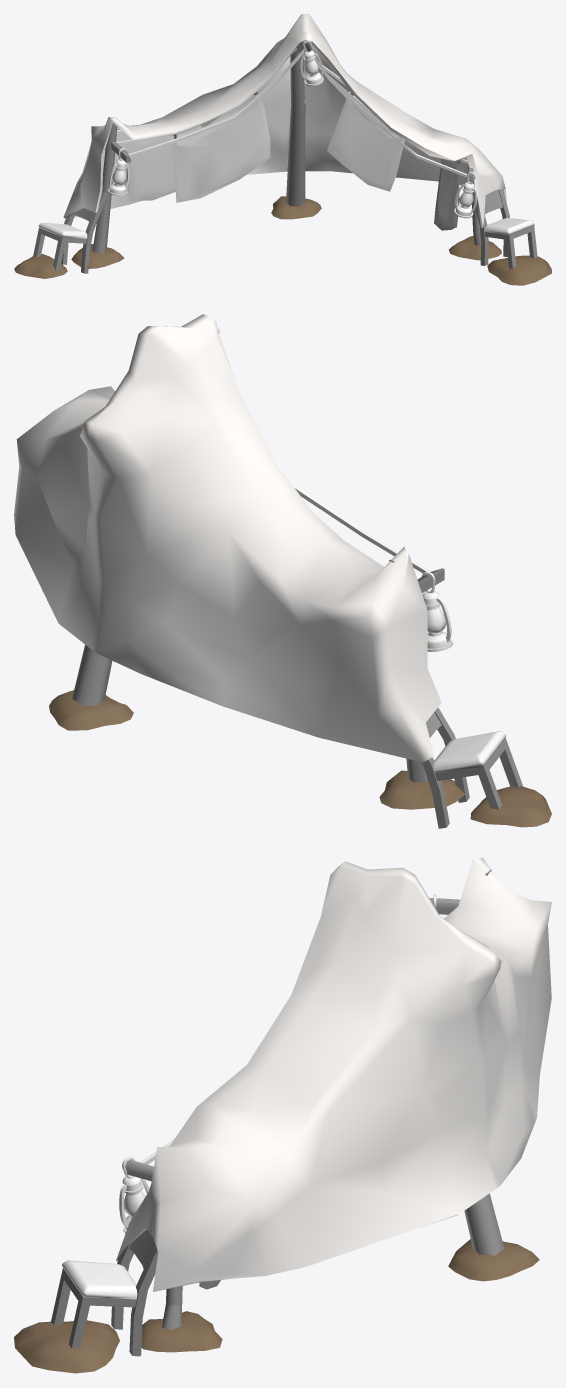
The model's file is SM_Shop_01.obj.
3 renders of one model, top to bottom at view 1: azimuth 30°, elevation 25°; view 2: azimuth 150°, elevation 25°; view 3: azimuth 270°, elevation 25°, orthographic. The views are drawn at different scales.
Visible parts, largest first — view 1: SM_Shop_01_Mat_SwatchOverlay_PolygonTown_01_Wood_Inst, SM_Shop_01_Mat_SwatchOverlay_PolygonTown_01_Inst, SM_Shop_01_Mat_Dirt_Inst, SM_Shop_01_Mi_Lantern, SM_Shop_01_Mat_Glow_Lanterns_Inst; view 2: SM_Shop_01_Mat_SwatchOverlay_PolygonTown_01_Inst, SM_Shop_01_Mat_SwatchOverlay_PolygonTown_01_Wood_Inst, SM_Shop_01_Mat_Dirt_Inst, SM_Shop_01_Mi_Lantern; view 3: SM_Shop_01_Mat_SwatchOverlay_PolygonTown_01_Inst, SM_Shop_01_Mat_SwatchOverlay_PolygonTown_01_Wood_Inst, SM_Shop_01_Mat_Dirt_Inst, SM_Shop_01_Mi_Lantern.
Part boxes in pixels (box(x1,y1,x2,y2)): SM_Shop_01_Mat_SwatchOverlay_PolygonTown_01_Wood_Inst: box(33, 42, 537, 273); SM_Shop_01_Mat_SwatchOverlay_PolygonTown_01_Inst: box(63, 14, 506, 228); SM_Shop_01_Mat_Dirt_Inst: box(14, 196, 551, 285); SM_Shop_01_Mi_Lantern: box(108, 40, 477, 218); SM_Shop_01_Mat_Glow_Lanterns_Inst: box(112, 59, 473, 206); SM_Shop_01_Mat_SwatchOverlay_PolygonTown_01_Inst: box(14, 314, 441, 762); SM_Shop_01_Mat_SwatchOverlay_PolygonTown_01_Wood_Inst: box(72, 458, 522, 828); SM_Shop_01_Mat_Dirt_Inst: box(49, 690, 551, 827); SM_Shop_01_Mi_Lantern: box(217, 324, 452, 651); SM_Shop_01_Mat_SwatchOverlay_PolygonTown_01_Inst: box(116, 857, 551, 1291); SM_Shop_01_Mat_SwatchOverlay_PolygonTown_01_Wood_Inst: box(51, 869, 504, 1356); SM_Shop_01_Mat_Dirt_Inst: box(14, 1239, 539, 1373); SM_Shop_01_Mi_Lantern: box(119, 894, 443, 1233).
Size of the model in its own units: 6.37 by 3.33 by 4.14.
Materials: 5 (3 with a texture image).
